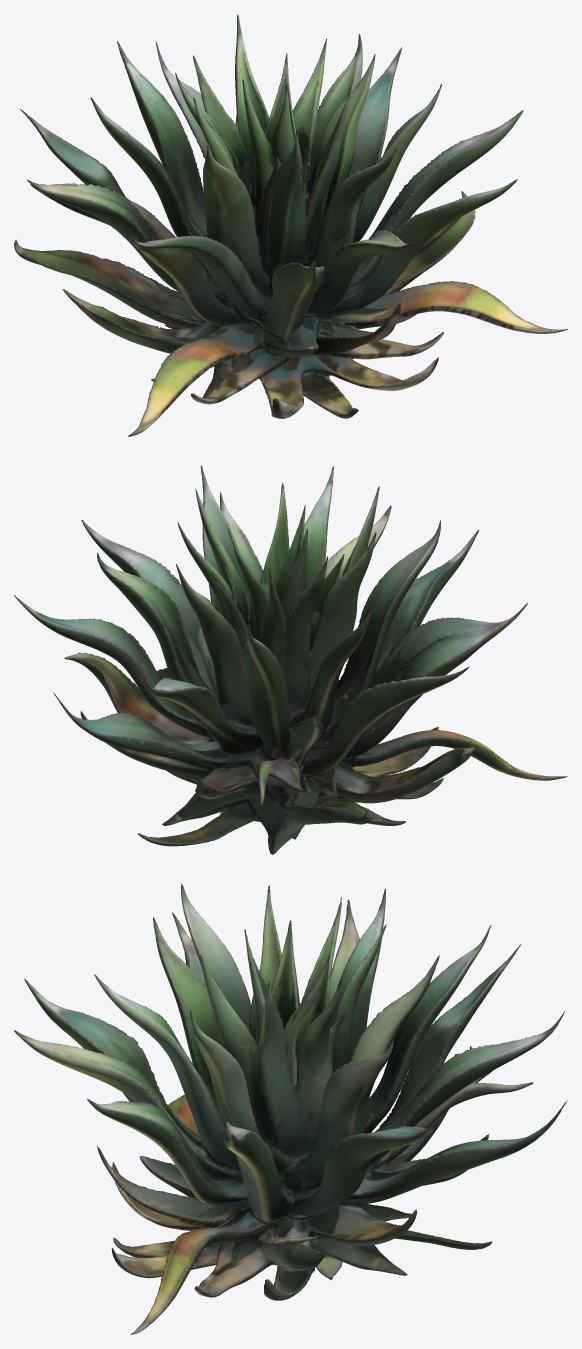
The model's file is modelo_agave.glb.
3 renders of one model, top to bottom at view 1: azimuth 30°, elevation 25°; view 2: azimuth 150°, elevation 25°; view 3: azimuth 270°, elevation 25°, orthographic. The views are drawn at different scales.
Visible parts, largest first — view 1: Mesh1.0; view 2: Mesh1.0; view 3: Mesh1.0.
Boxes of the visible parts, box(x1,y1,x2,y2) form: Mesh1.0: box(14, 14, 567, 436); Mesh1.0: box(14, 465, 567, 854); Mesh1.0: box(14, 883, 567, 1334).
Size of the model in its own units: 2 by 1.3 by 1.98.
1 material, 1 textured.
